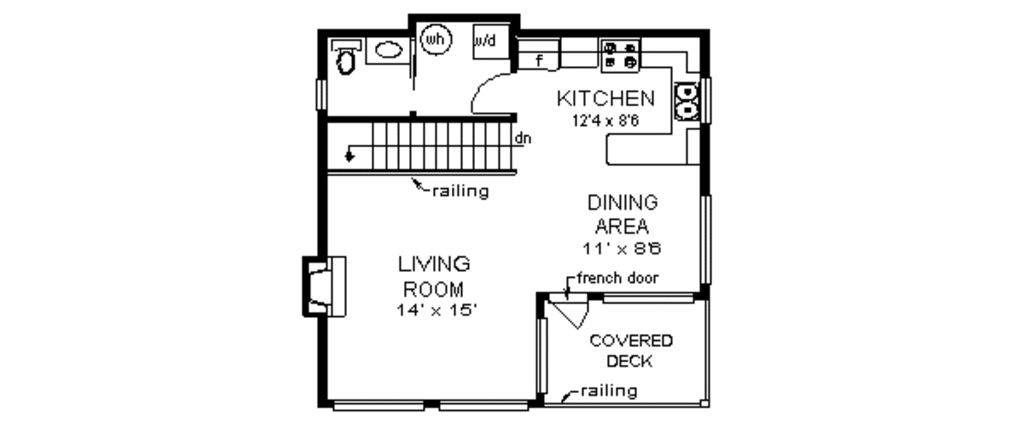door: (459, 67, 522, 116), (551, 286, 599, 333)
large_sink: (330, 36, 362, 80)
small_sink: (360, 40, 412, 69)
stairs: (321, 110, 516, 187)
twin_sink: (671, 77, 705, 126)
window: (332, 395, 434, 415), (530, 316, 553, 400), (599, 289, 700, 305), (696, 196, 714, 285), (436, 400, 531, 413), (314, 74, 332, 110)
